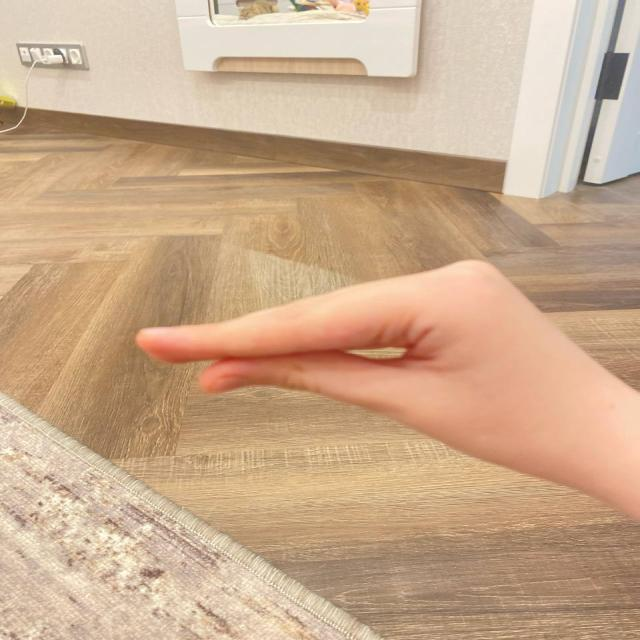zh: (102, 262, 578, 453)
